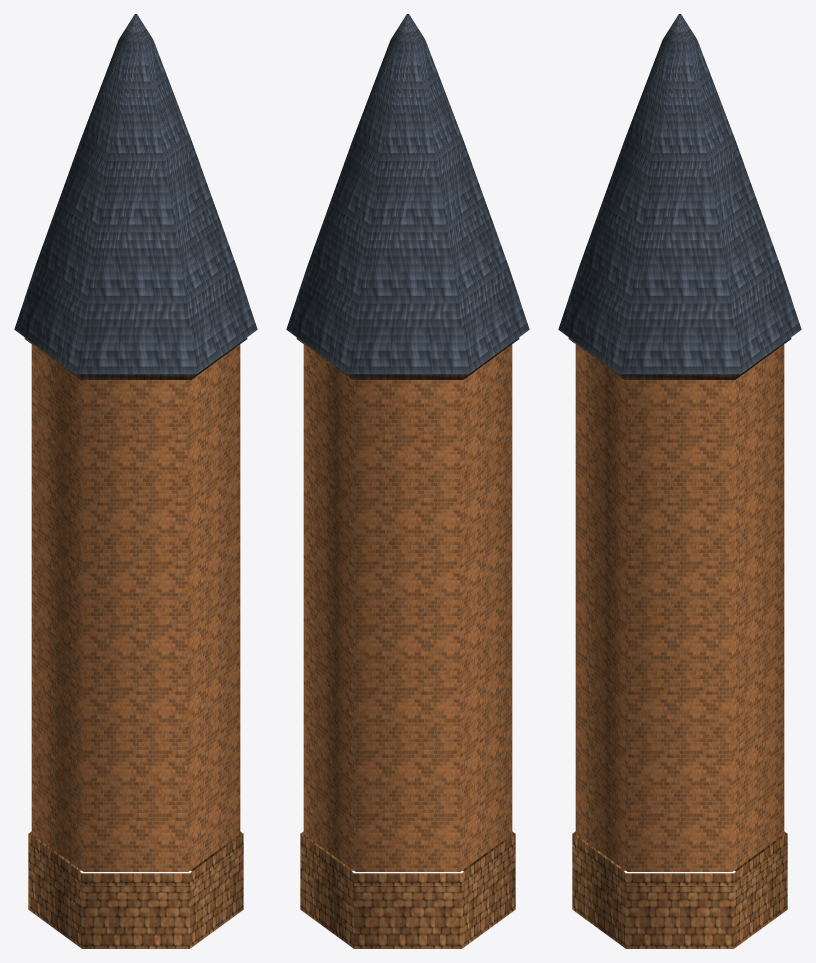
File: Turret_Corner_Ochre_1_LOD2.gltf
3 renders of one model, left to right at view 1: azimuth 30°, elevation 25°; view 2: azimuth 150°, elevation 25°; view 3: azimuth 270°, elevation 25°, orthographic.
Parts seen in each view (by area): view 1: Turret_Corner_Ochre_1_LOD2; view 2: Turret_Corner_Ochre_1_LOD2; view 3: Turret_Corner_Ochre_1_LOD2.
Part boxes in pixels (bbox=[...]): Turret_Corner_Ochre_1_LOD2: bbox=[14, 14, 257, 948]; Turret_Corner_Ochre_1_LOD2: bbox=[286, 14, 529, 948]; Turret_Corner_Ochre_1_LOD2: bbox=[558, 14, 801, 948].
Bounding box in the file's own units: 3.03 × 14.2 × 3.5.
4 materials, 4 textured.
